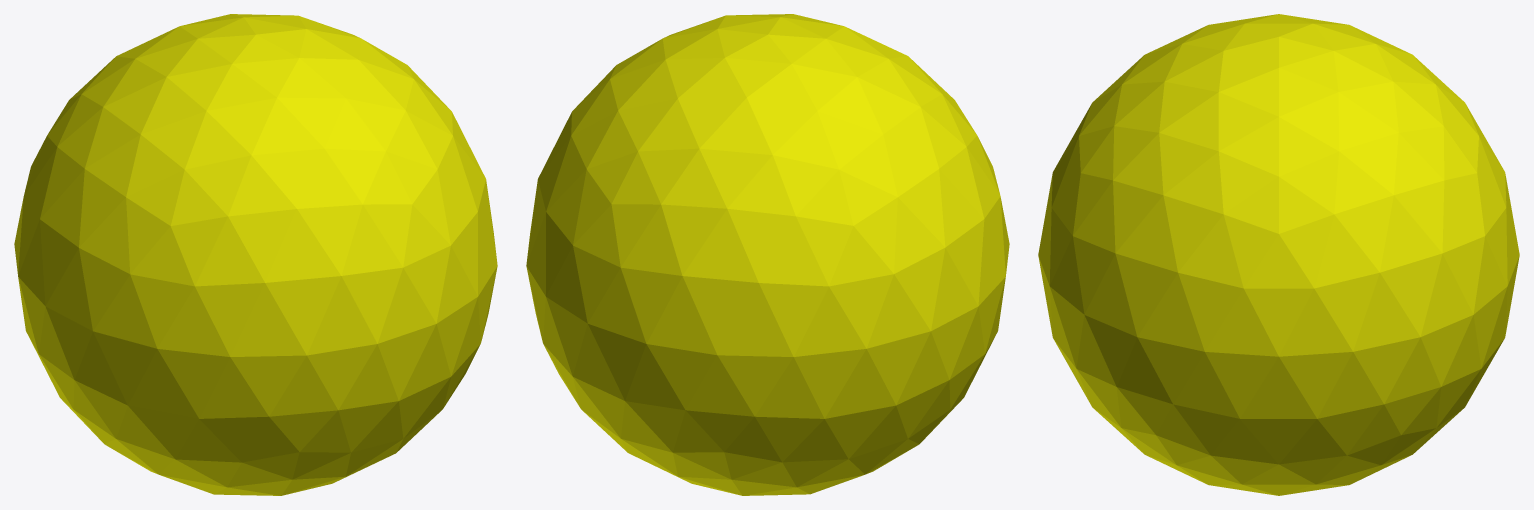
The model's file is normSphere.obj.
3 renders of one model, left to right at view 1: azimuth 30°, elevation 25°; view 2: azimuth 150°, elevation 25°; view 3: azimuth 270°, elevation 25°, orthographic.
Parts seen in each view (by area): view 1: sphere; view 2: sphere; view 3: sphere.
Boxes of the visible parts, x1=… form: sphere: x1=14, y1=14, x2=497, y2=495; sphere: x1=526, y1=14, x2=1009, y2=495; sphere: x1=1038, y1=14, x2=1519, y2=495.
Bounding box in the file's own units: 7.92 × 7.92 × 7.92.
